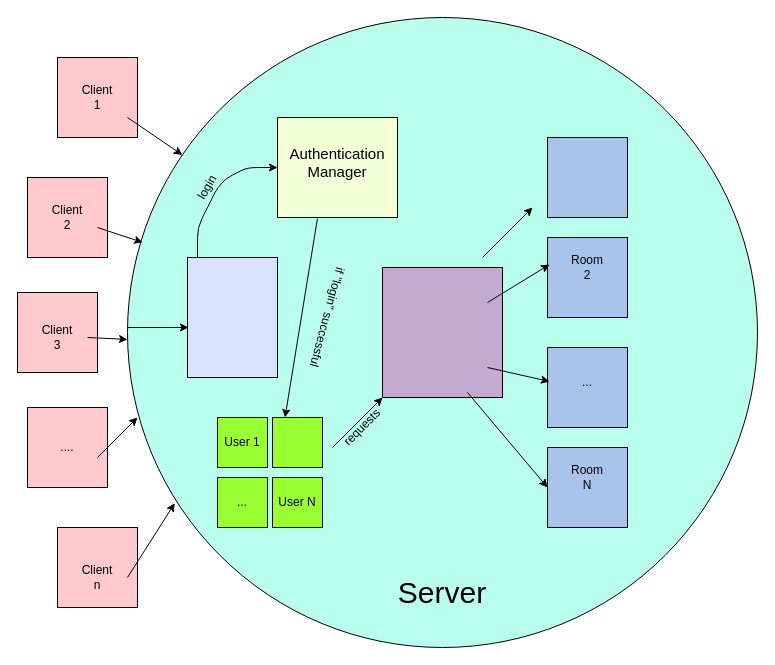
The diagram is 775 pixels wide and 665 high, and some of its shapes have lost their labels. Here are the shapes that lost their labels. From the top down, the centre of each, then its label:
At point 587,177: "Room 1".
At point 232,317: "User Manager".
At point 442,332: "Room Manager".
At point 297,442: "User 2".
